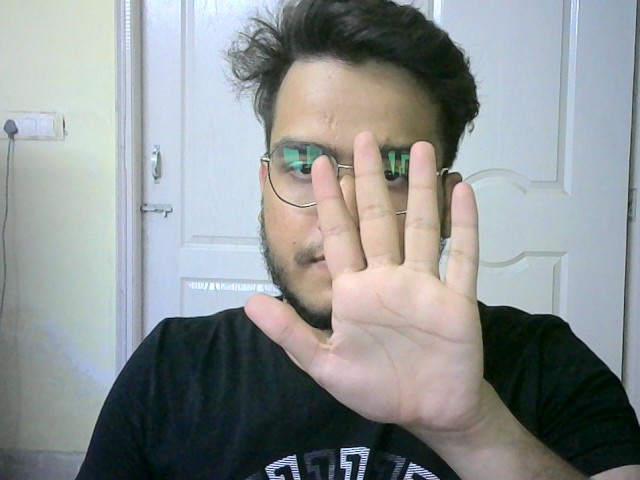Hello: (240, 131, 497, 435)
